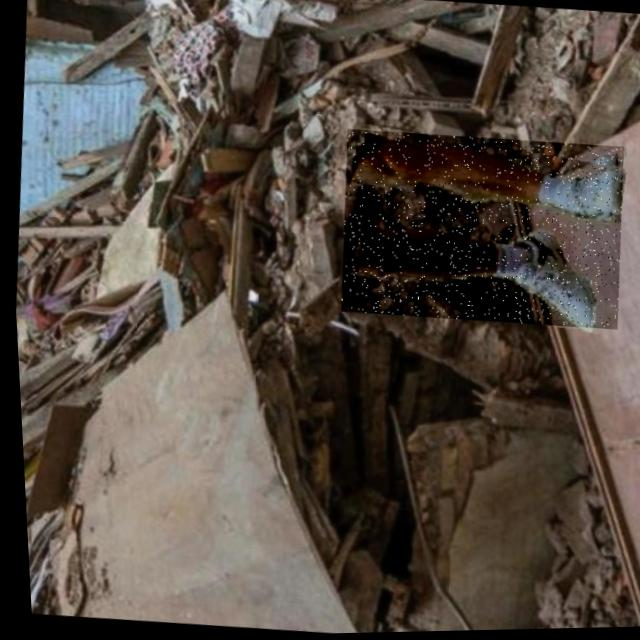Person in Rubble: (330, 124, 629, 335)
